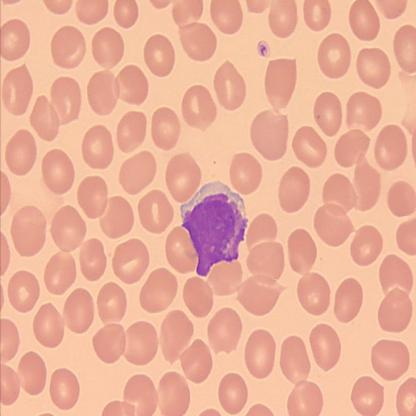Atypical lymphocyte: (181, 182, 253, 276)
